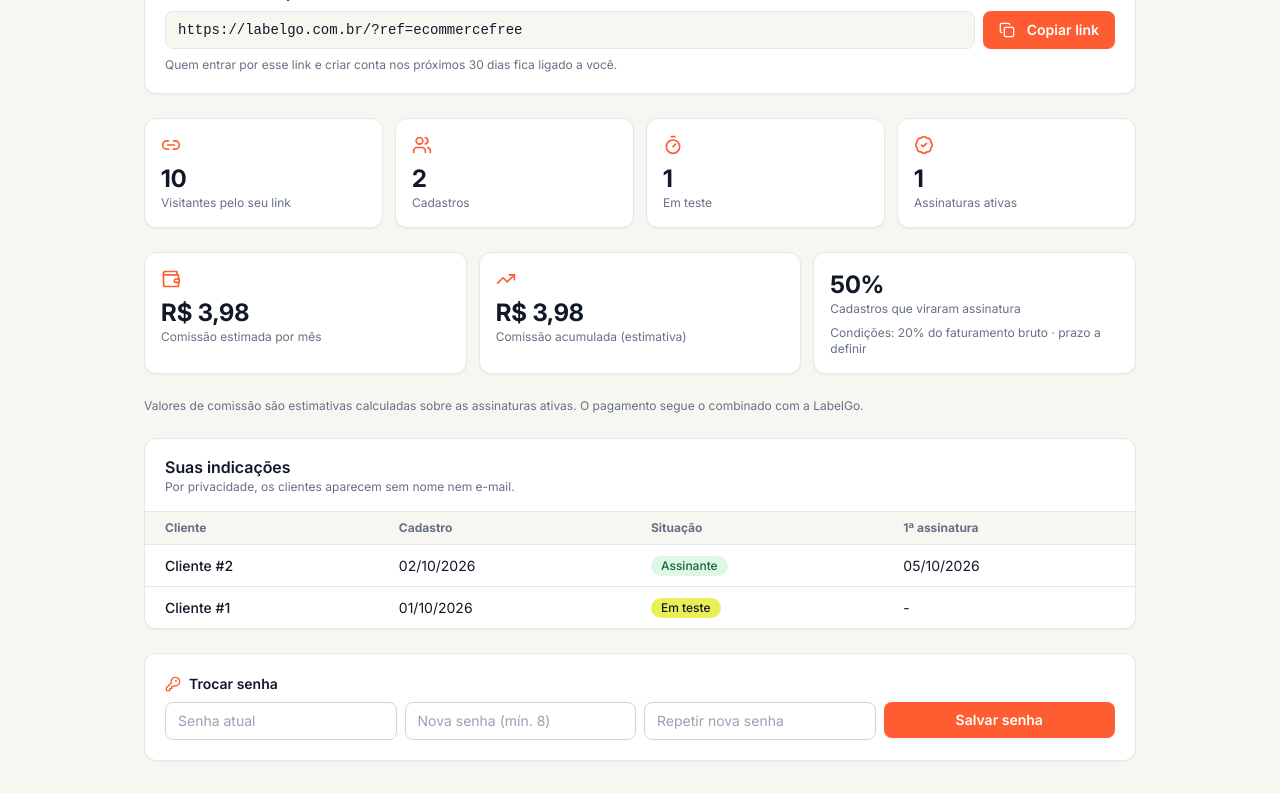
Test: lets the partner change the password and blocks mismatched confirmation
(page scrolled)
expect the heading "Trocar senha" is shown: met, box [189,674,278,694]
Type "atual-12345" into the password field labelled "Senha atual". click: {"x": 281, "y": 721}
box: [165,702,396,740]
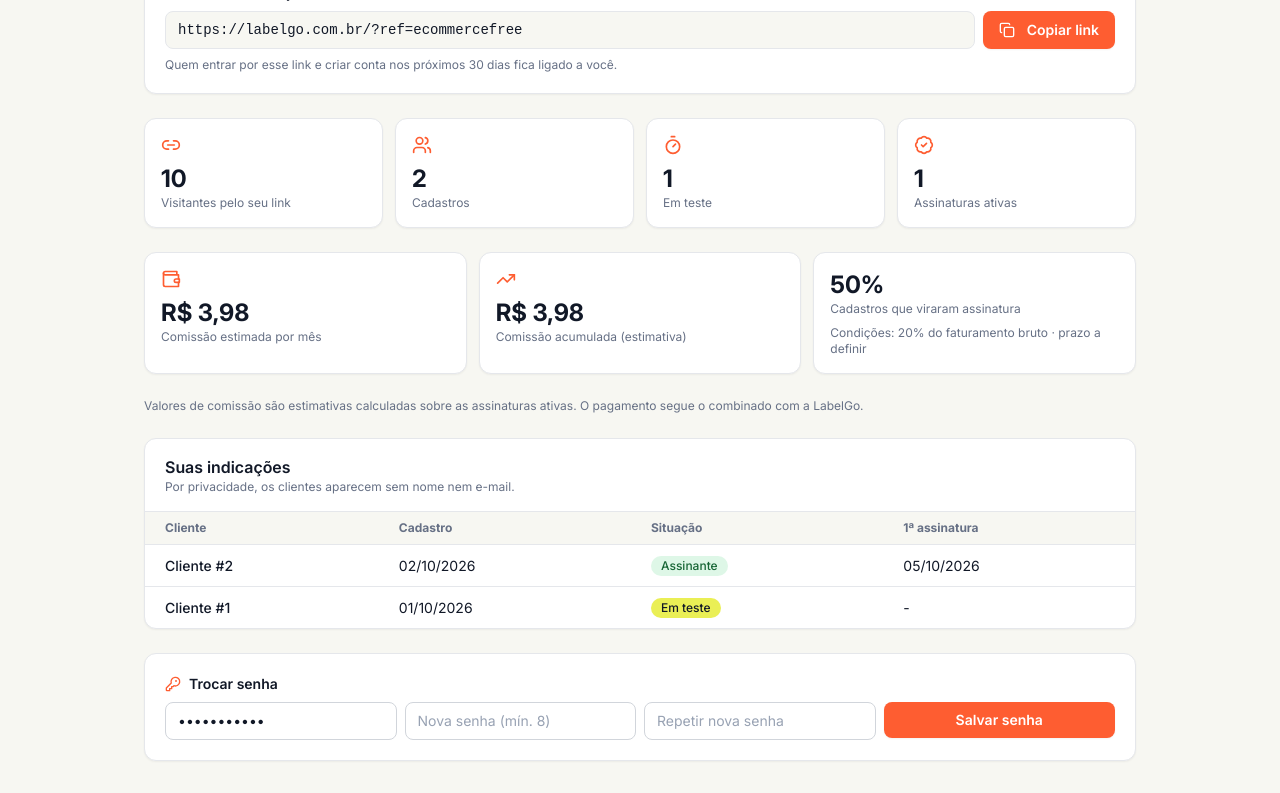
Type "nova-12345" into the password field labelled "Nova senha". click: {"x": 520, "y": 721}
box: [404,702,636,740]
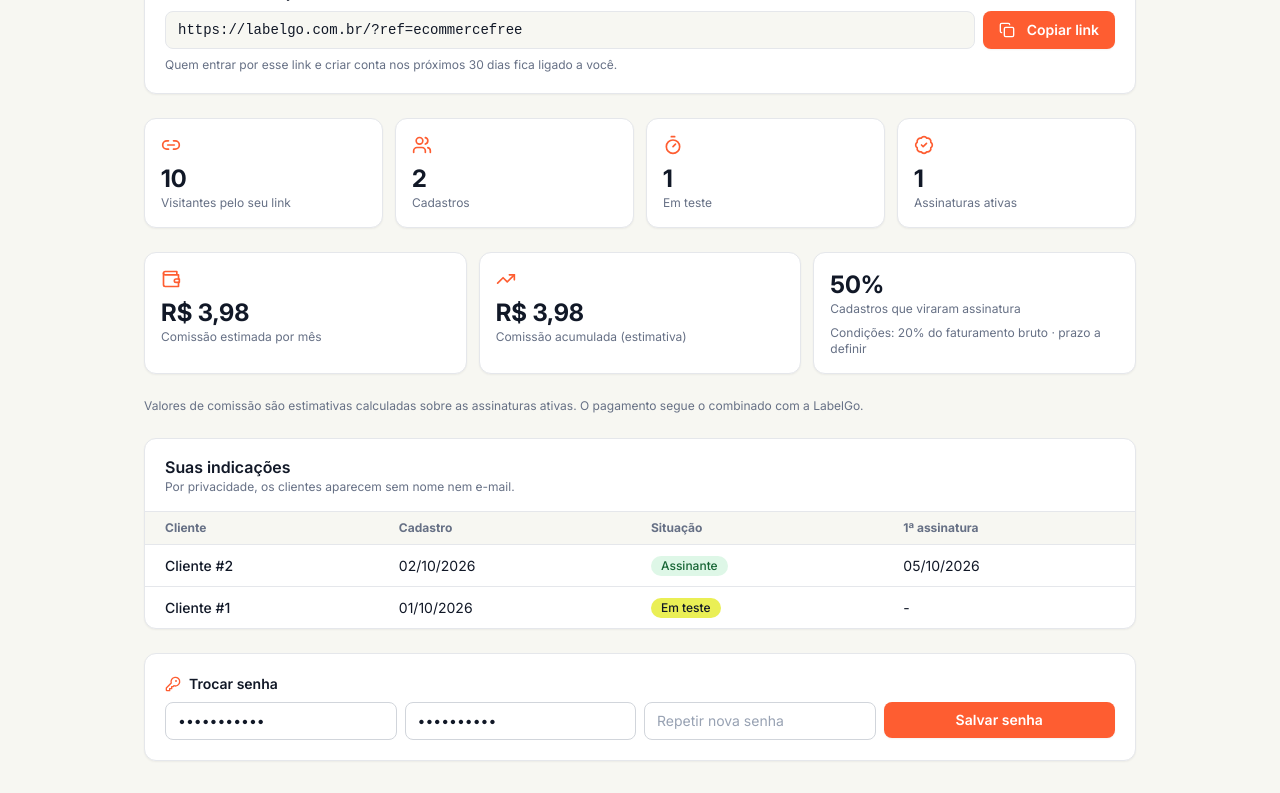
Type "diferente-1" into the password field labelled "Repetir nova senha". click: {"x": 760, "y": 721}
box: [644,702,876,740]
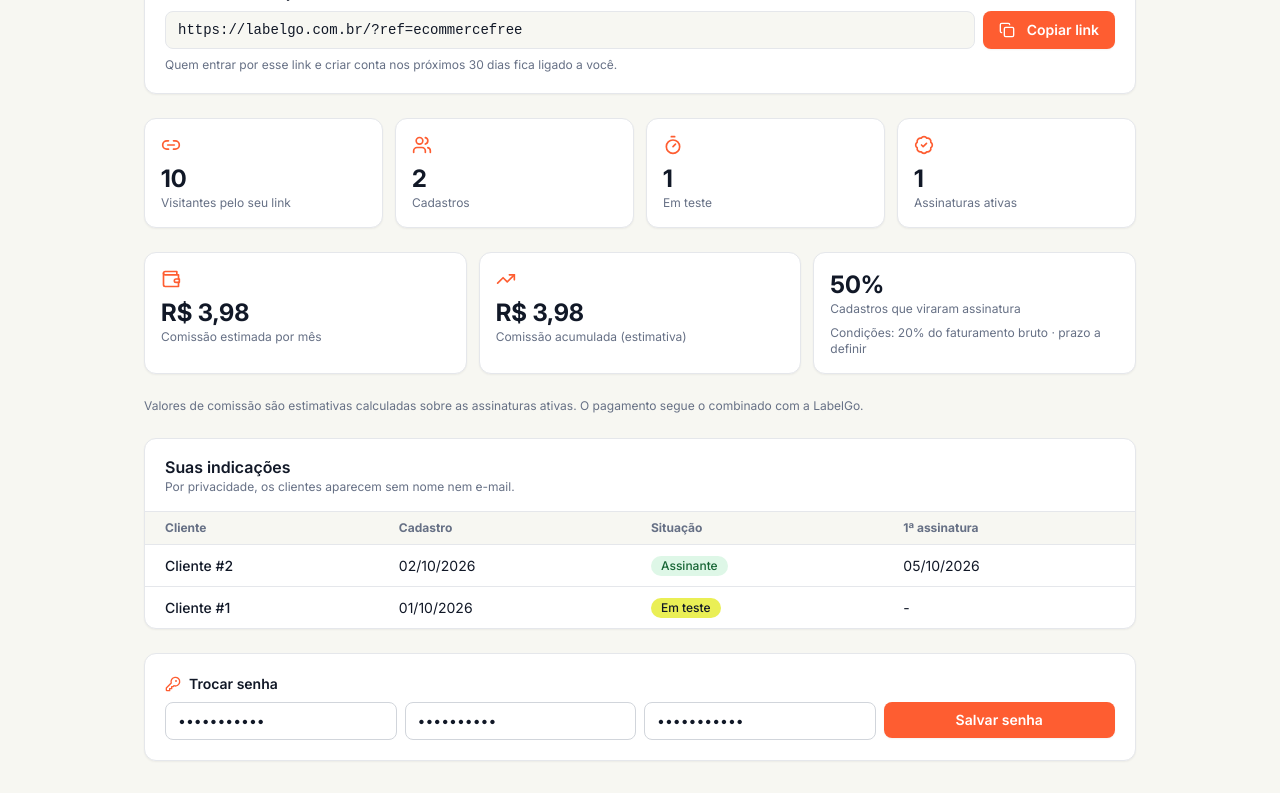
Click the button "Salvar senha". click: {"x": 999, "y": 720}
box: [884,702,1115,738]
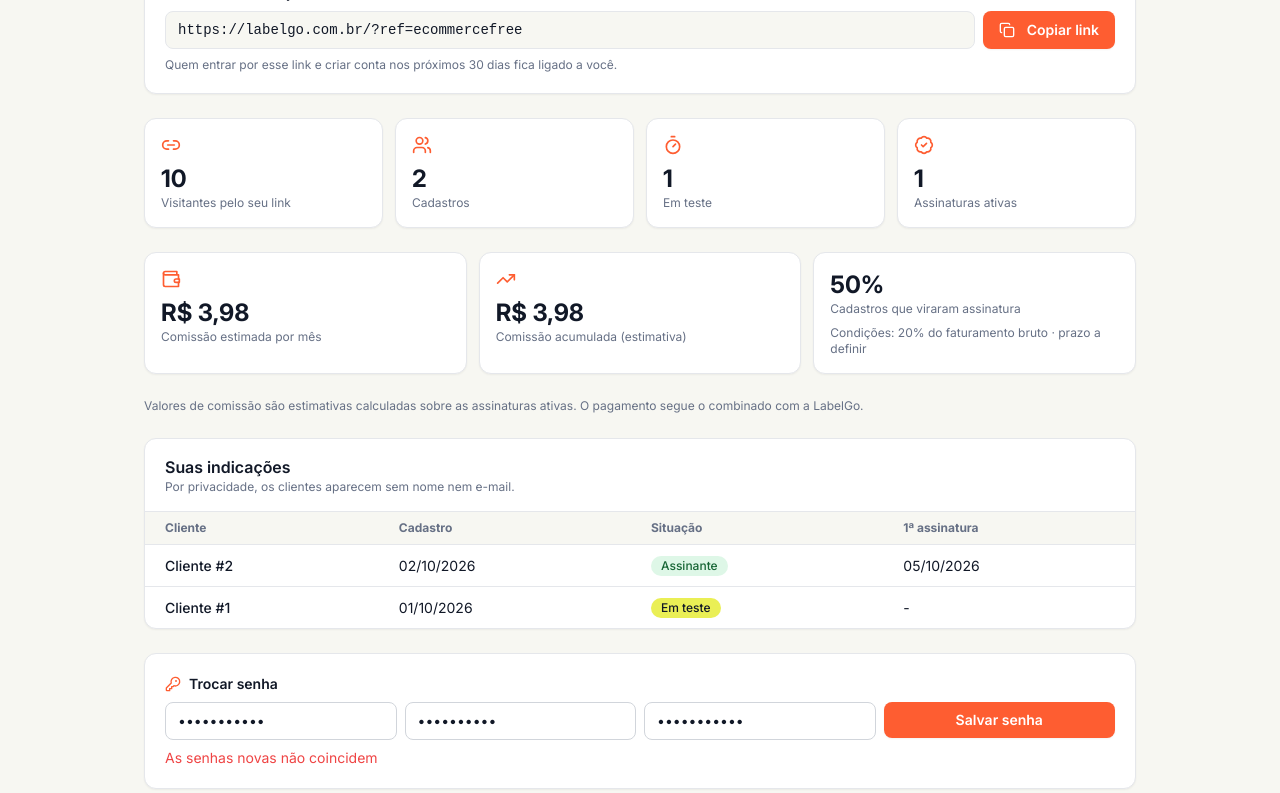
expect the text "As senhas novas não coincidem" is shown: met, box [165,749,378,766]
Type "nova-12345" into the password field named "Repetir nova senha". click: {"x": 760, "y": 721}
box: [644,702,876,740]
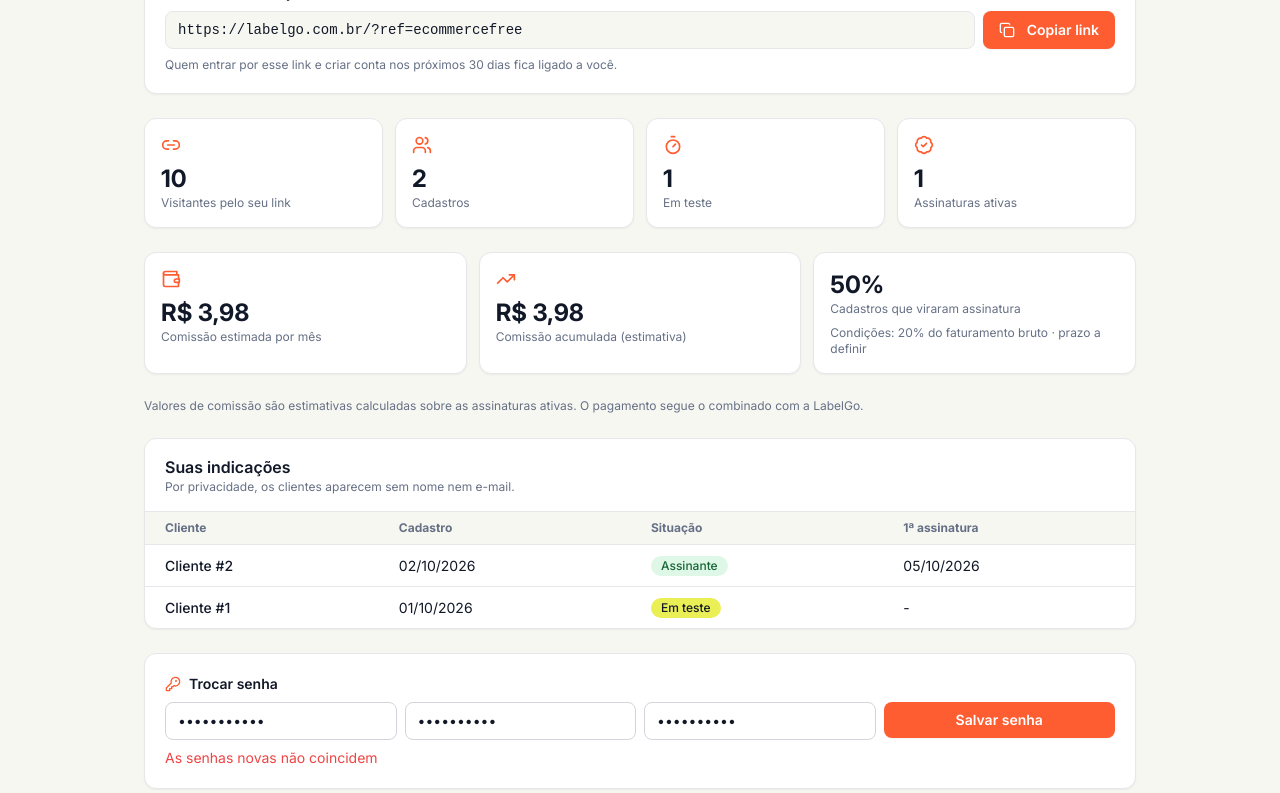
Click the button "Salvar senha". click: {"x": 999, "y": 720}
box: [884,702,1115,738]
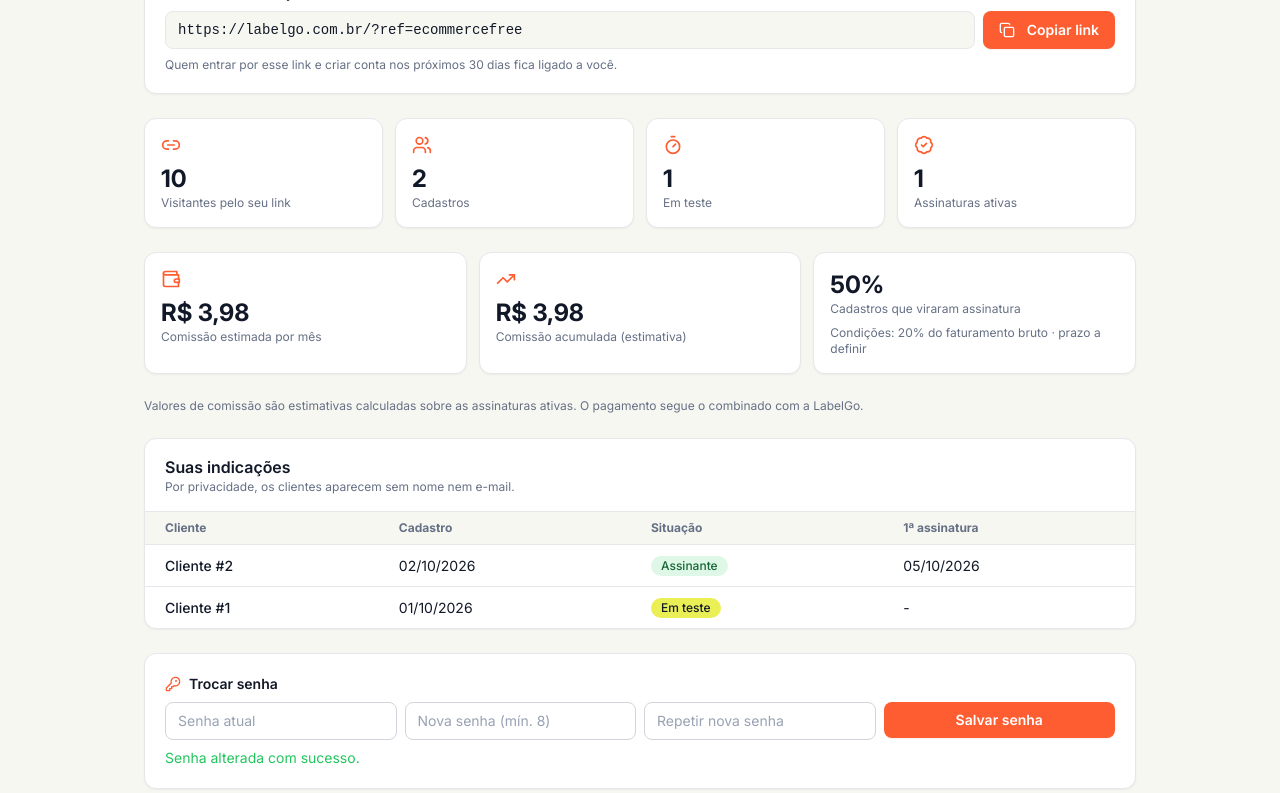
expect the text "Senha alterada com sucesso." is shown: met, box [165,749,360,766]
